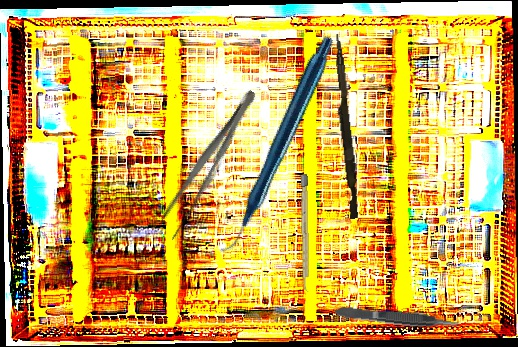Dressing Forceps: (154, 84, 264, 243)
Handpiece: (153, 34, 398, 255)
Pusher: (327, 33, 364, 220)
Scalpel Handle: (300, 174, 310, 293)
Tissue Forceps: (334, 302, 462, 333)
